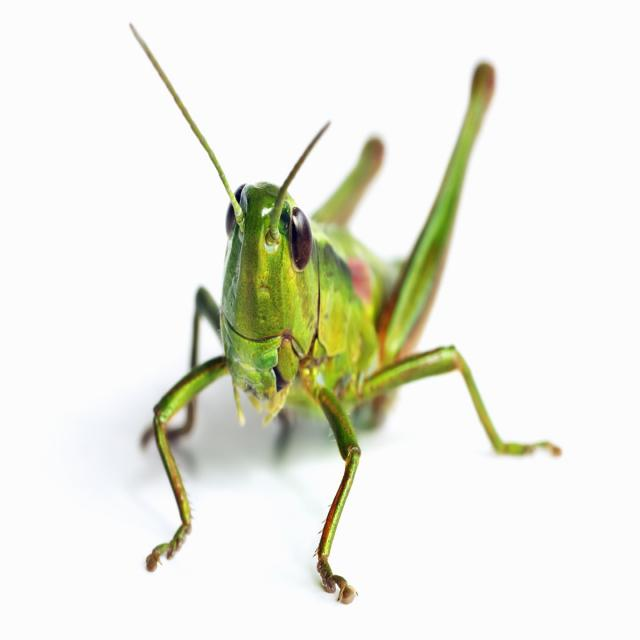ZhaMeng: (116, 12, 513, 542)
